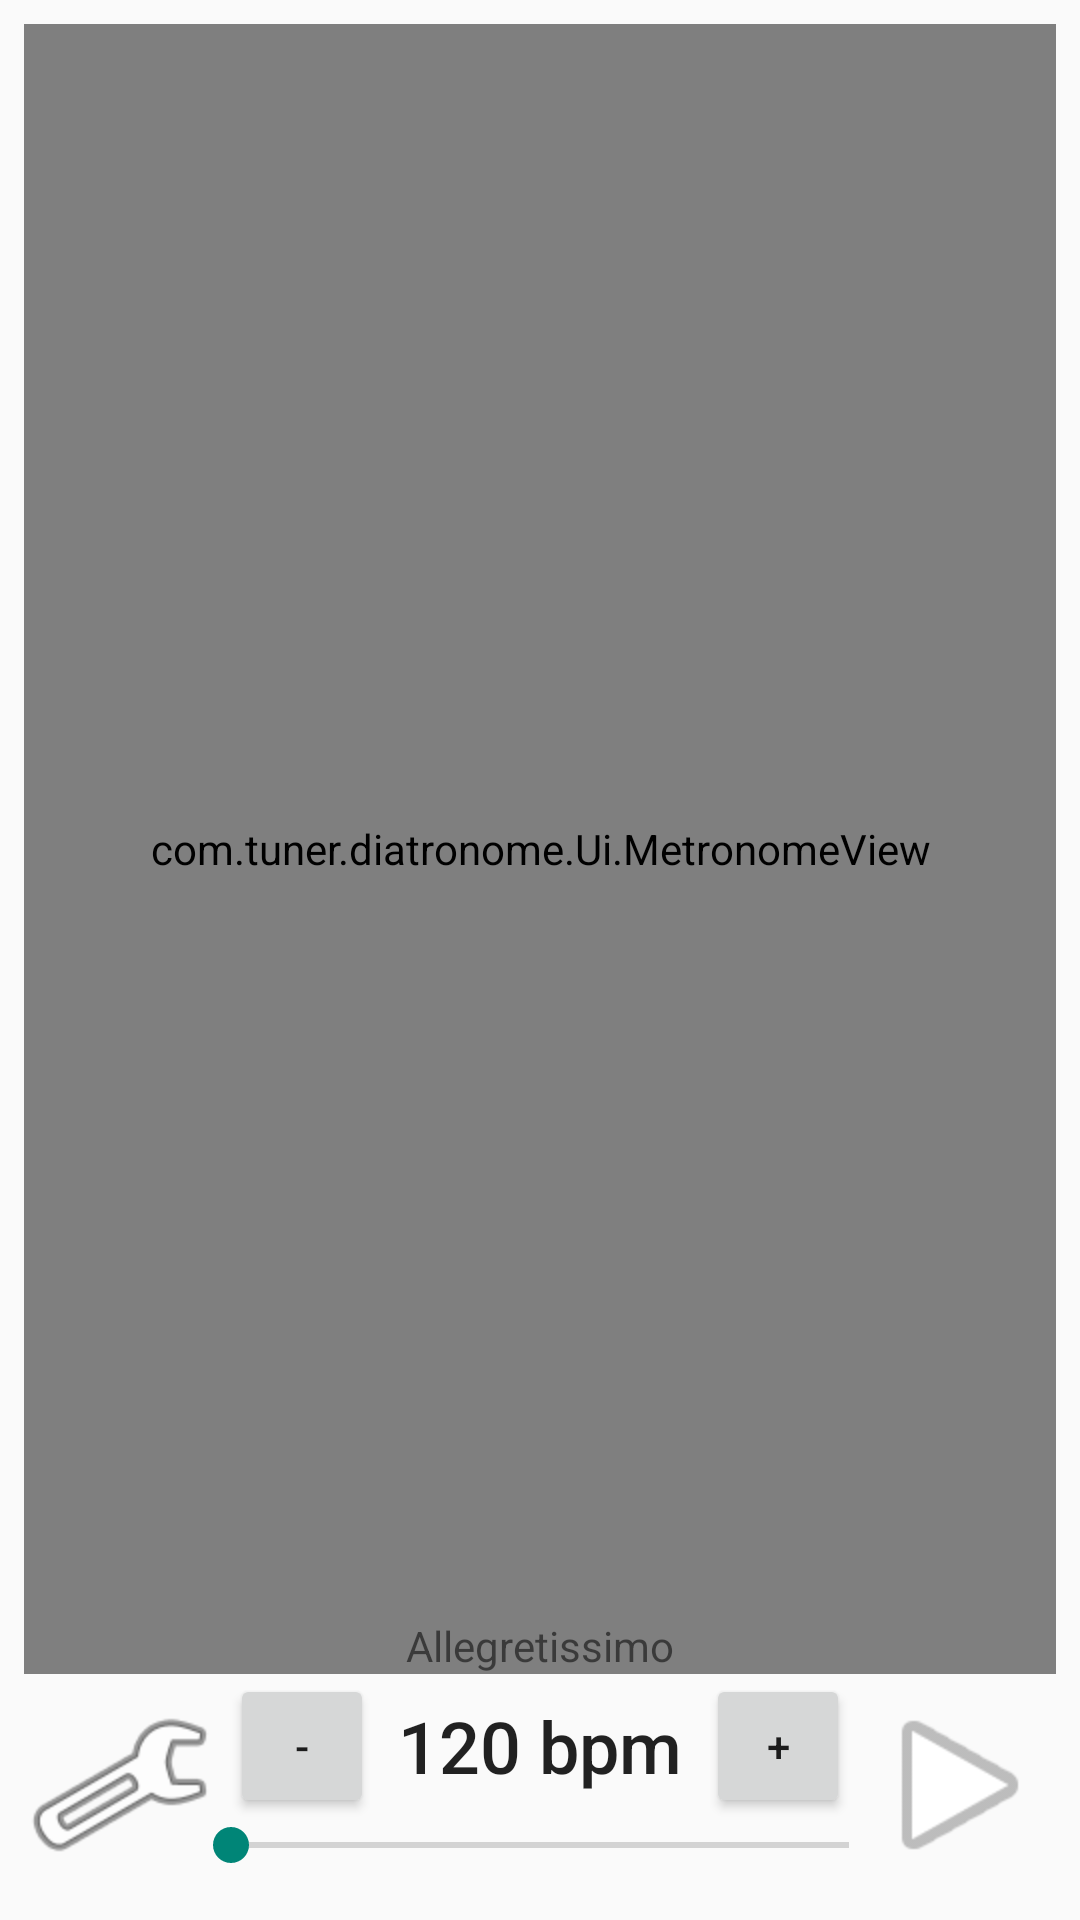

Named icons in this screenshot (1080x1920) and their centers, (x,y):
play: (960,1785)
preferences: (120,1785)
